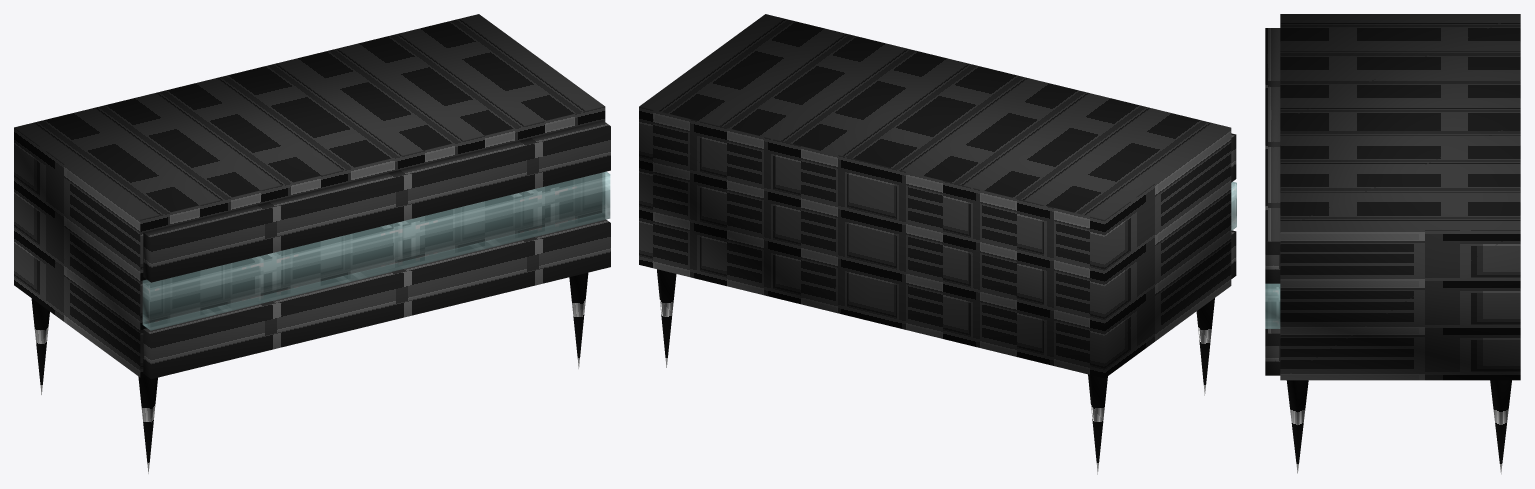
Rendered from 3107IMRL08_06.gltf.
3 views of the same model, side by side, from view 1: azimuth 30°, elevation 25°; view 2: azimuth 150°, elevation 25°; view 3: azimuth 270°, elevation 25° (orthographic). The views are drawn at different scales.
Visible parts, largest first — view 1: 3107IMRL08_06; view 2: 3107IMRL08_06; view 3: 3107IMRL08_06.
Part boxes in pixels (x1=…): 3107IMRL08_06: x1=14, y1=14, x2=610, y2=473; 3107IMRL08_06: x1=639, y1=14, x2=1236, y2=474; 3107IMRL08_06: x1=1265, y1=14, x2=1520, y2=474.
Bounding box in the file's own units: 2 × 1.09 × 1.
4 materials, 4 textured.
